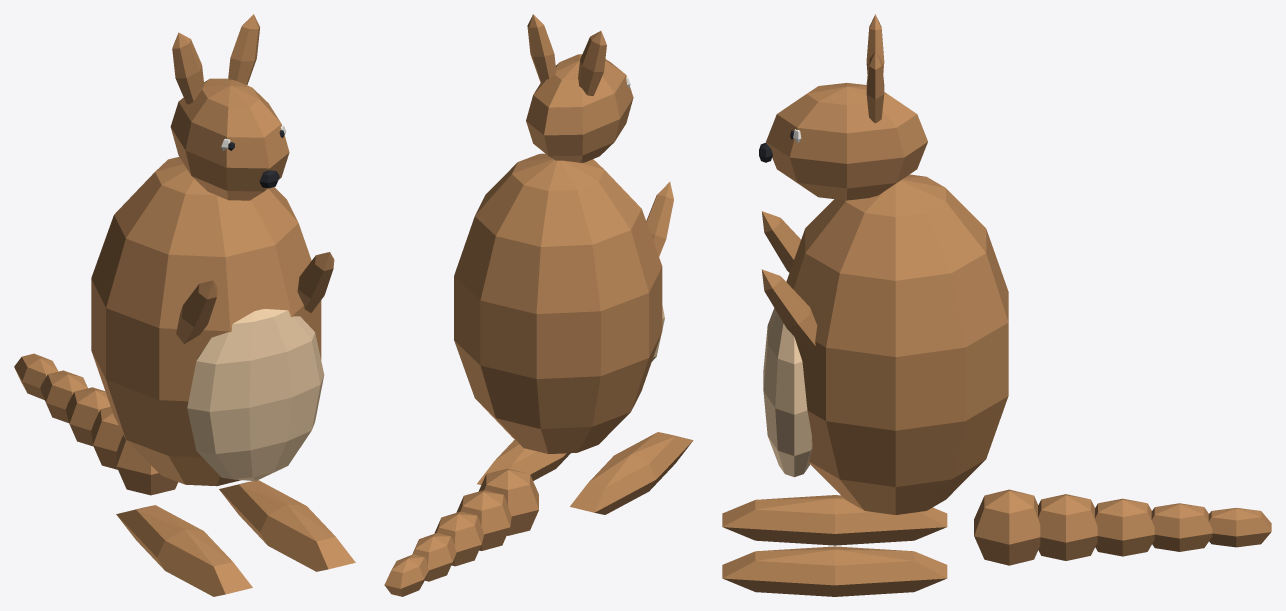
Rendered from animal_kangaroo.glb.
3 renders of one model, left to right at view 1: azimuth 30°, elevation 25°; view 2: azimuth 150°, elevation 25°; view 3: azimuth 270°, elevation 25°, orthographic. The views are drawn at different scales.
Parts seen in each view (by area): view 1: body_kangaroo_fur, body_kangaroo_belly, head_kangaroo_fur, feet_kangaroo_fur, tail_kangaroo_fur, arms_kangaroo_fur; view 2: body_kangaroo_fur, head_kangaroo_fur, tail_kangaroo_fur, feet_kangaroo_fur, arms_kangaroo_fur; view 3: body_kangaroo_fur, feet_kangaroo_fur, tail_kangaroo_fur, head_kangaroo_fur, body_kangaroo_belly, arms_kangaroo_fur.
Boxes of the visible parts, box(x1,y1,x2,y2) form: body_kangaroo_fur: box(91, 157, 321, 486); body_kangaroo_belly: box(187, 309, 324, 481); head_kangaroo_fur: box(170, 14, 289, 200); feet_kangaroo_fur: box(116, 480, 355, 596); tail_kangaroo_fur: box(14, 353, 178, 495); arms_kangaroo_fur: box(176, 252, 334, 343); body_kangaroo_fur: box(454, 153, 662, 454); head_kangaroo_fur: box(526, 14, 633, 162); tail_kangaroo_fur: box(384, 468, 538, 596); feet_kangaroo_fur: box(477, 432, 693, 514); arms_kangaroo_fur: box(646, 182, 673, 256); body_kangaroo_fur: box(783, 174, 1008, 514); feet_kangaroo_fur: box(722, 495, 947, 596); tail_kangaroo_fur: box(974, 489, 1271, 565); head_kangaroo_fur: box(766, 14, 927, 200); body_kangaroo_belly: box(763, 308, 812, 477); arms_kangaroo_fur: box(761, 211, 817, 353).
Size of the model in its own units: 0.585 by 1.46 by 1.35.
